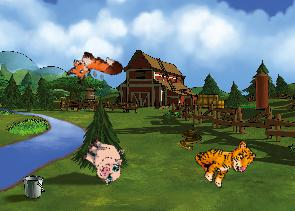fox: (64, 45, 124, 95)
pig: (76, 133, 131, 187)
tiger: (189, 125, 259, 194)
